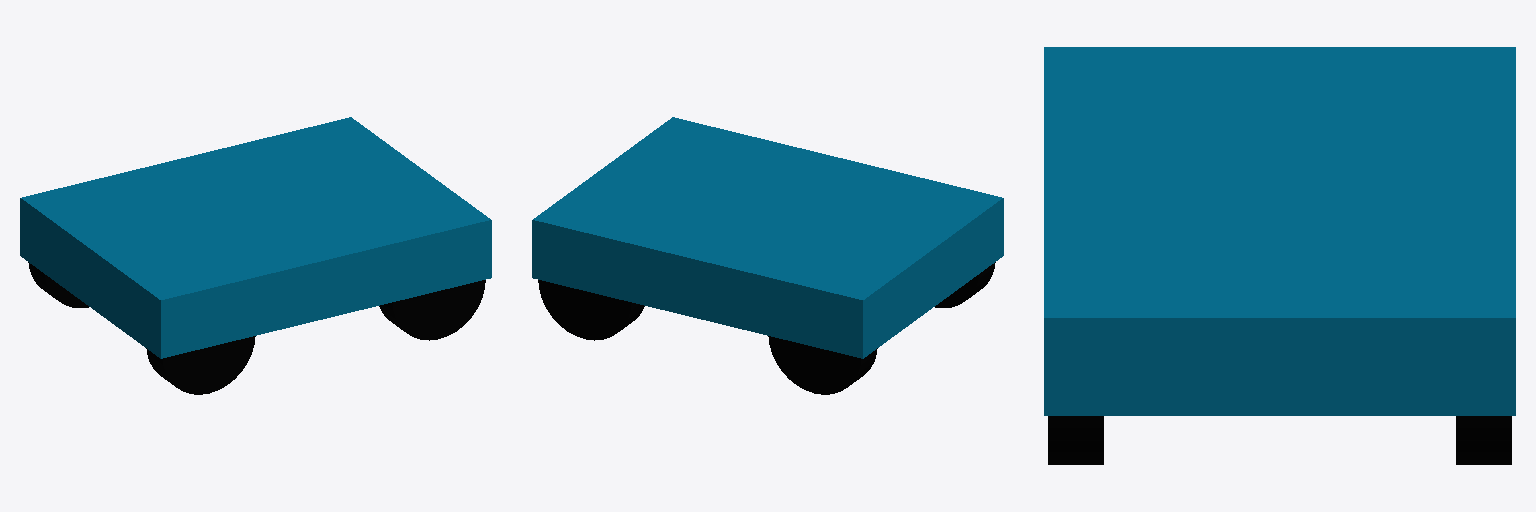
robot.urdf — baja_vehicle:
<?xml version="1.0"?>
<robot name="baja_vehicle">
  <material name="body"><color rgba="0.04 0.48 0.62 1"/></material><material name="tire"><color rgba="0.035 0.035 0.035 1"/></material>
  <link name="base_link"><visual><origin xyz="0 0 0"/><geometry><box size="2.072 1.523 0.35"/></geometry><material name="body"/></visual></link>
  <link name="rear_left_wheel"><visual><origin rpy="1.570796 0 0"/><geometry><cylinder radius="0.292" length="0.18"/></geometry><material name="tire"/></visual></link>
  <link name="rear_right_wheel"><visual><origin rpy="1.570796 0 0"/><geometry><cylinder radius="0.292" length="0.18"/></geometry><material name="tire"/></visual></link>
  <link name="front_left_steering"/><link name="front_right_steering"/>
  <link name="front_left_wheel"><visual><origin rpy="1.570796 0 0"/><geometry><cylinder radius="0.292" length="0.18"/></geometry><material name="tire"/></visual></link>
  <link name="front_right_wheel"><visual><origin rpy="1.570796 0 0"/><geometry><cylinder radius="0.292" length="0.18"/></geometry><material name="tire"/></visual></link>
  <joint name="rear_left_wheel_joint" type="continuous"><parent link="base_link"/><child link="rear_left_wheel"/><origin xyz="-0.715 0.6405 -0.178"/><axis xyz="0 1 0"/></joint>
  <joint name="rear_right_wheel_joint" type="continuous"><parent link="base_link"/><child link="rear_right_wheel"/><origin xyz="-0.715 -0.6405 -0.178"/><axis xyz="0 1 0"/></joint>
  <joint name="front_left_steering_joint" type="revolute"><parent link="base_link"/><child link="front_left_steering"/><origin xyz="0.715 0.57 -0.178"/><axis xyz="0 0 1"/><limit lower="-0.7" upper="0.7" effort="180" velocity="2.5"/></joint>
  <joint name="front_right_steering_joint" type="revolute"><parent link="base_link"/><child link="front_right_steering"/><origin xyz="0.715 -0.57 -0.178"/><axis xyz="0 0 1"/><limit lower="-0.7" upper="0.7" effort="180" velocity="2.5"/></joint>
  <joint name="front_left_wheel_joint" type="continuous"><parent link="front_left_steering"/><child link="front_left_wheel"/><origin xyz="0 0.09 0"/><axis xyz="0 1 0"/></joint>
  <joint name="front_right_wheel_joint" type="continuous"><parent link="front_right_steering"/><child link="front_right_wheel"/><origin xyz="0 -0.09 0"/><axis xyz="0 1 0"/></joint>
</robot>

--- What the picture shows (computed from the rendered views, not written in the file) ---
The picture shows the robot from 3 angles, left to right: view 1: azimuth 30°, elevation 25°; view 2: azimuth 150°, elevation 25°; view 3: azimuth 270°, elevation 25°; orthographic projection.
Robot: baja_vehicle — 7 links, 6 joints (2 revolute, 4 continuous); root link base_link; default pose: every joint at zero.
Visible links, largest first — view 1: base_link, front_right_wheel, rear_right_wheel, rear_left_wheel; view 2: base_link, front_left_wheel, rear_left_wheel, rear_right_wheel; view 3: base_link, front_left_wheel, front_right_wheel.
Link boxes in pixels (box(x1,y1,x2,y2)): base_link: box(20, 117, 491, 358); front_right_wheel: box(379, 280, 485, 340); rear_right_wheel: box(146, 336, 255, 394); rear_left_wheel: box(28, 262, 88, 307); base_link: box(532, 117, 1003, 358); front_left_wheel: box(538, 280, 644, 340); rear_left_wheel: box(768, 336, 877, 394); rear_right_wheel: box(935, 262, 995, 307); base_link: box(1044, 47, 1515, 415); front_left_wheel: box(1456, 416, 1511, 464); front_right_wheel: box(1048, 416, 1103, 464).
Bounding box of the posed robot: 2.07 × 1.52 × 0.645 m (x, y, z).
Geometry: primitives only (box / cylinder / sphere), no mesh files.
